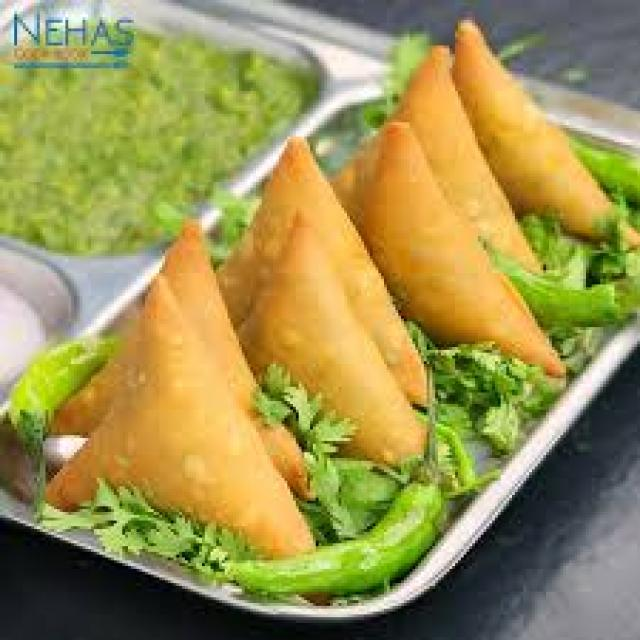SAMOSA: (46, 273, 310, 555), (356, 119, 558, 373), (222, 139, 418, 398), (239, 228, 418, 461), (452, 20, 606, 233), (393, 46, 535, 267)
